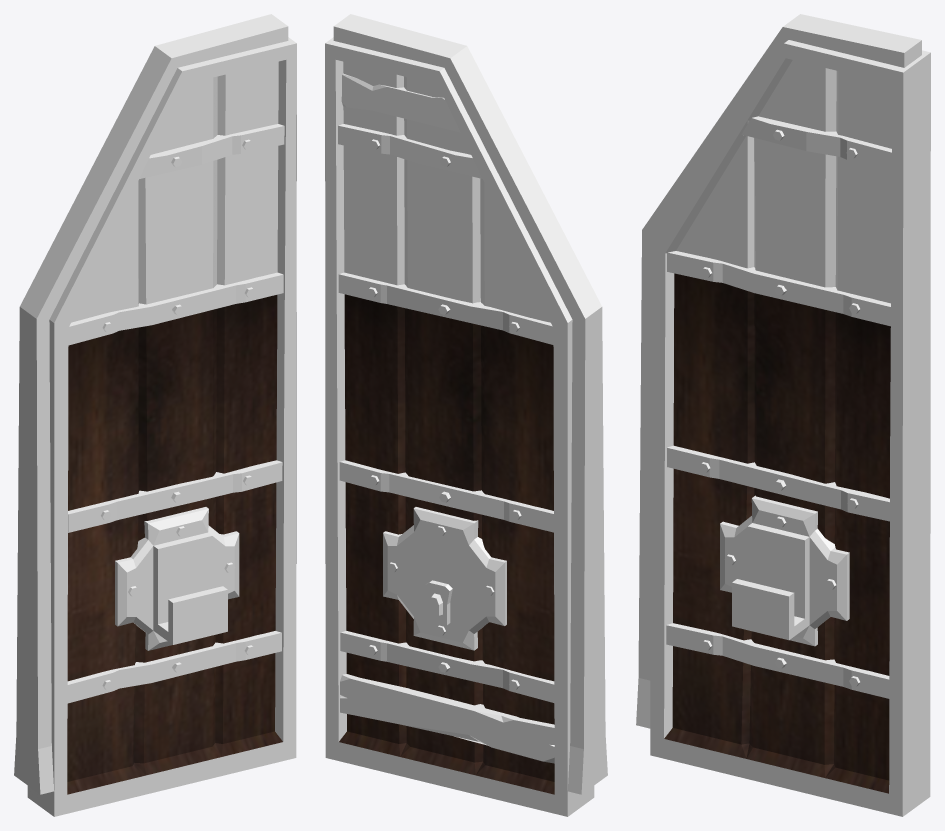
The model's file is Door Large L.fbx.
3 views of the same model, side by side, from view 1: azimuth 30°, elevation 25°; view 2: azimuth 150°, elevation 25°; view 3: azimuth 330°, elevation 25° (orthographic). The views are drawn at different scales.
Parts seen in each view (by area): view 1: Door Large L; view 2: Door Large L; view 3: Door Large L.
Boxes of the visible parts, left/top/right/bottom form: Door Large L: left=14, top=14, right=296, bottom=816; Door Large L: left=325, top=14, right=607, bottom=816; Door Large L: left=636, top=14, right=930, bottom=816.
Bounding box in the file's own units: 664 × 1802 × 240.
Materials: 1 (1 with a texture image).
